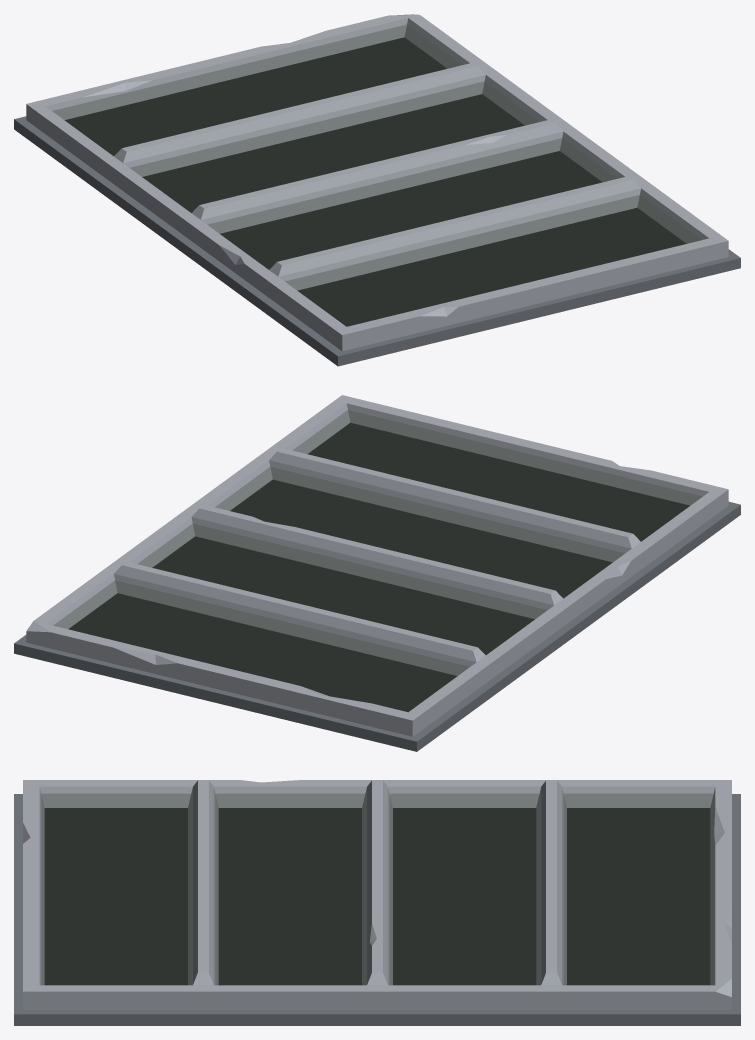
Rendered from SM_Bld_Skylight_03.fbx.
3 views of the same model, one above another, from view 1: azimuth 30°, elevation 25°; view 2: azimuth 150°, elevation 25°; view 3: azimuth 270°, elevation 25° (orthographic). The views are drawn at different scales.
Parts seen in each view (by area): view 1: SM_Bld_Skylight_03; view 2: SM_Bld_Skylight_03; view 3: SM_Bld_Skylight_03.
Boxes of the visible parts, x1=… form: SM_Bld_Skylight_03: x1=14, y1=14, x2=740, y2=366; SM_Bld_Skylight_03: x1=14, y1=395, x2=740, y2=751; SM_Bld_Skylight_03: x1=14, y1=780, x2=740, y2=1025.
Size of the model in its own units: 186 by 15.34 by 259.
